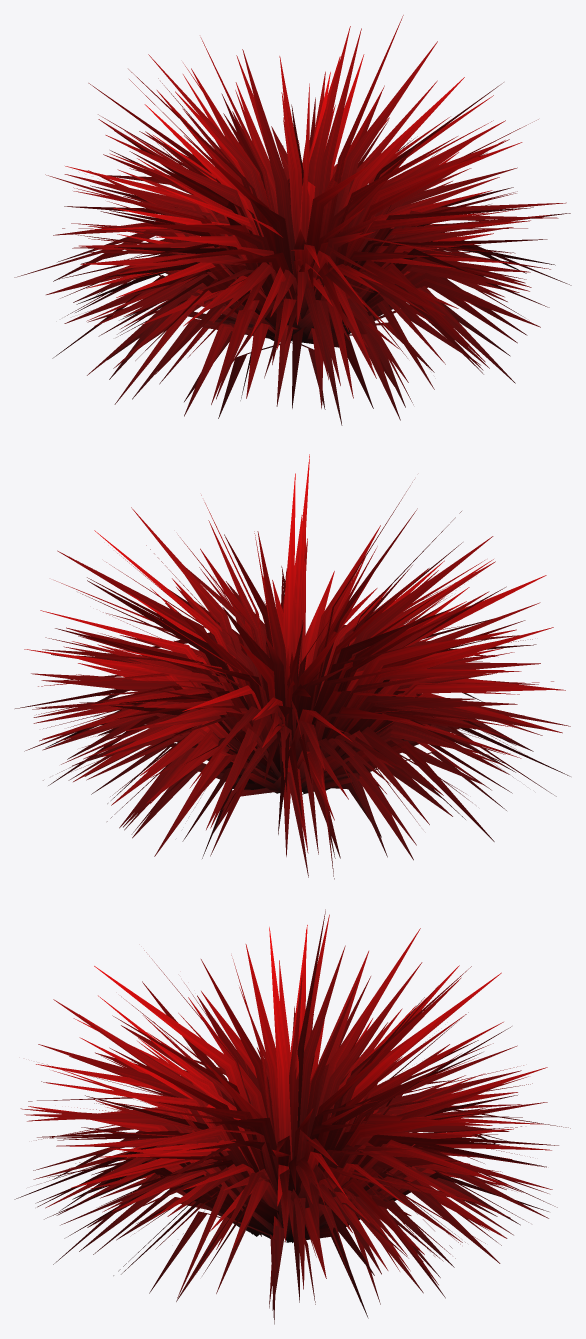
The model's file is alpine_tussock_v02_LOD1.glb.
The picture shows the model from 3 angles, top to bottom: view 1: azimuth 30°, elevation 25°; view 2: azimuth 150°, elevation 25°; view 3: azimuth 270°, elevation 25°; orthographic projection.
Parts seen in each view (by area): view 1: alpine_tussock_v02_LOD1; view 2: alpine_tussock_v02_LOD1; view 3: alpine_tussock_v02_LOD1.
Part boxes in pixels (x1,y1,x2,y2): alpine_tussock_v02_LOD1: (14, 15, 571, 425); alpine_tussock_v02_LOD1: (15, 454, 570, 879); alpine_tussock_v02_LOD1: (14, 909, 570, 1324).
Bounding box in the file's own units: 0.6401 × 0.3139 × 0.6398.
Materials: 1 (1 with a texture image).
